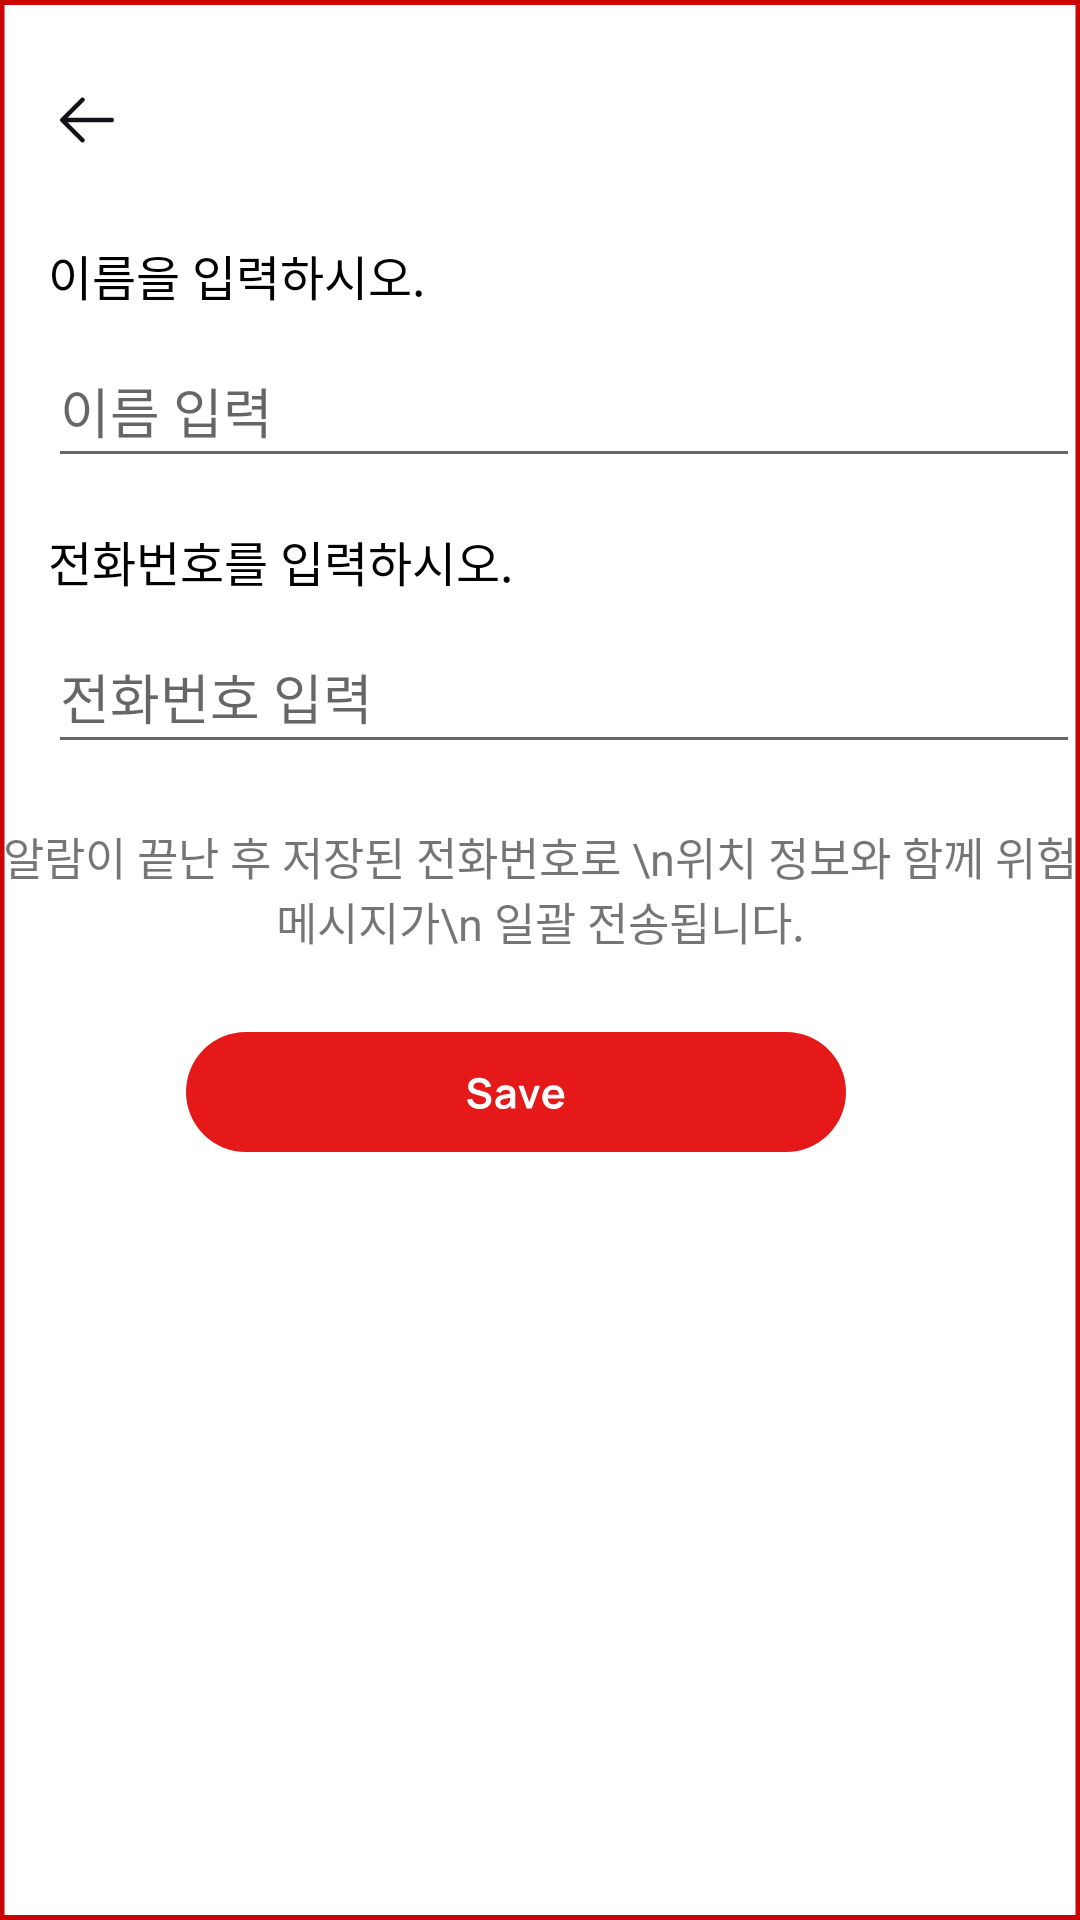

Screen size 1080 x 1920. Icon name, then its box in pixels as (x1, y1, x2, y2):
back: (60, 97, 114, 143)
